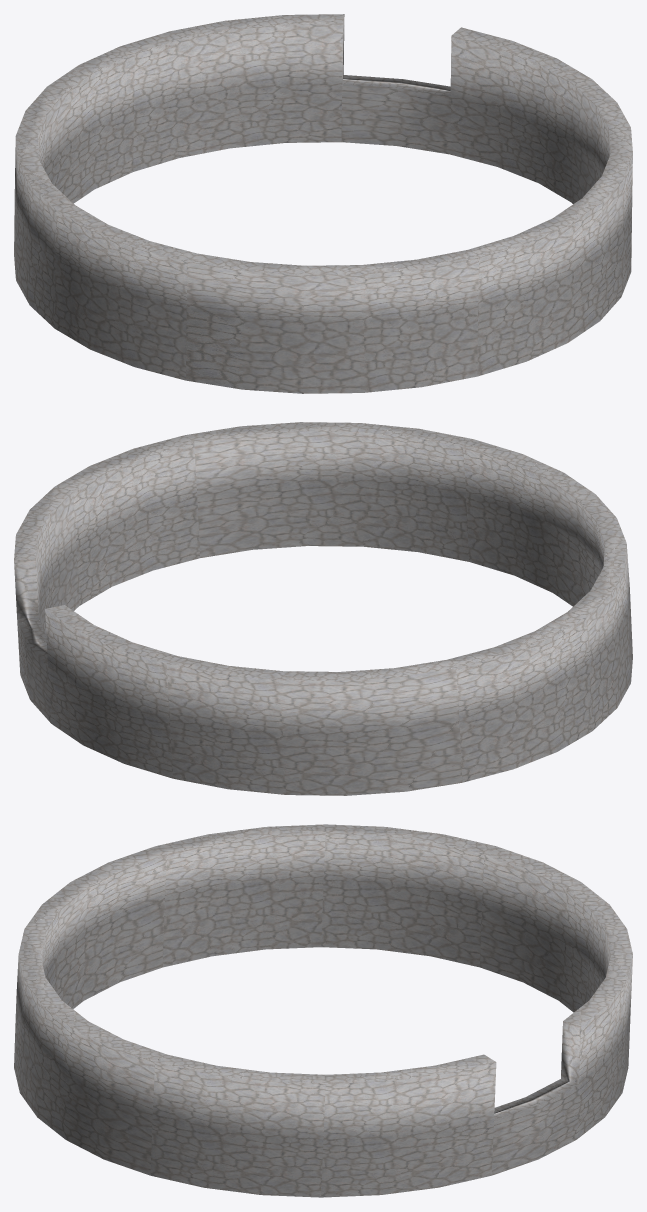
Rendered from RFM Outer Wall.fbx.
3 renders of one model, top to bottom at view 1: azimuth 30°, elevation 25°; view 2: azimuth 150°, elevation 25°; view 3: azimuth 270°, elevation 25°, orthographic.
Parts seen in each view (by area): view 1: RFM_Outer_Wall; view 2: RFM_Outer_Wall; view 3: RFM_Outer_Wall.
Boxes of the visible parts, x1,y1,x2,y2 form: RFM_Outer_Wall: (14,14,632,393); RFM_Outer_Wall: (14,422,632,795); RFM_Outer_Wall: (14,824,632,1197).
Bounding box in the file's own units: 21.89 × 4.51 × 21.89.
